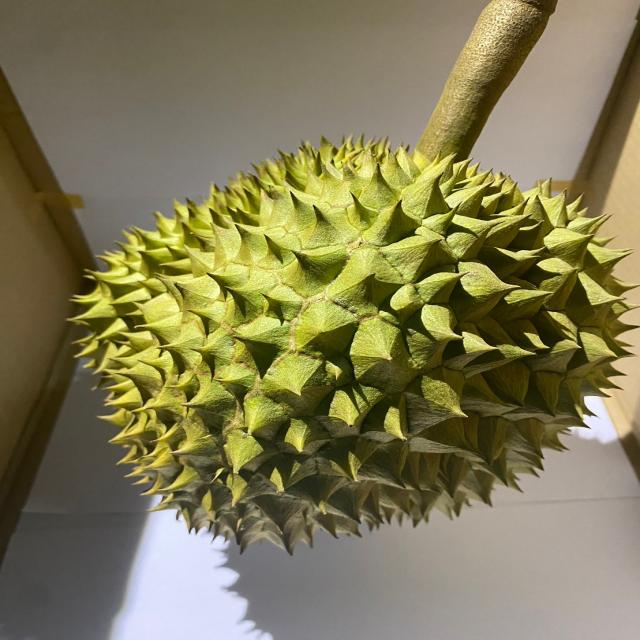immature: (62, 131, 640, 560)
